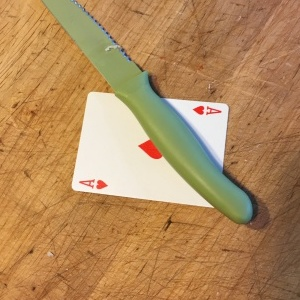card: (70, 89, 230, 211)
